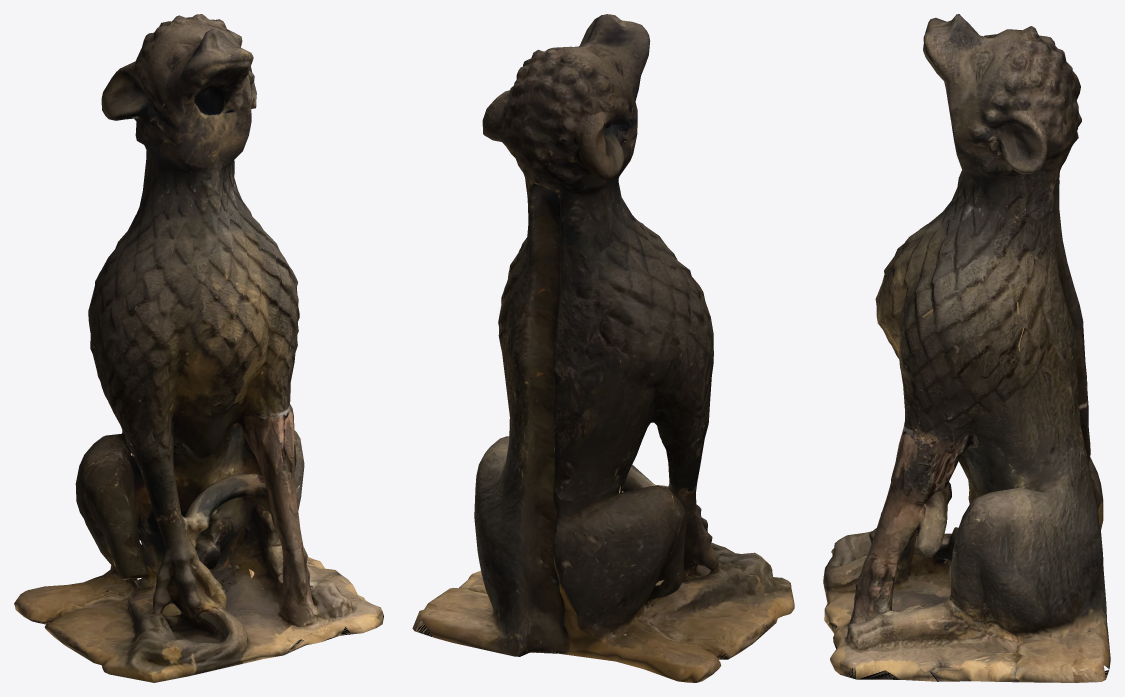
Rendered from 05_feathered_dog.glb.
3 renders of one model, left to right at view 1: azimuth 30°, elevation 25°; view 2: azimuth 150°, elevation 25°; view 3: azimuth 270°, elevation 25°, orthographic. The views are drawn at different scales.
Parts seen in each view (by area): view 1: Mesh_0; view 2: Mesh_0; view 3: Mesh_0.
Part boxes in pixels (box(x1,y1,x2,y2)): Mesh_0: box(14, 14, 383, 682); Mesh_0: box(412, 14, 794, 682); Mesh_0: box(823, 14, 1110, 682).
Bounding box in the file's own units: 0.9716 × 1.98 × 0.8527.
Materials: 7 (7 with a texture image).
